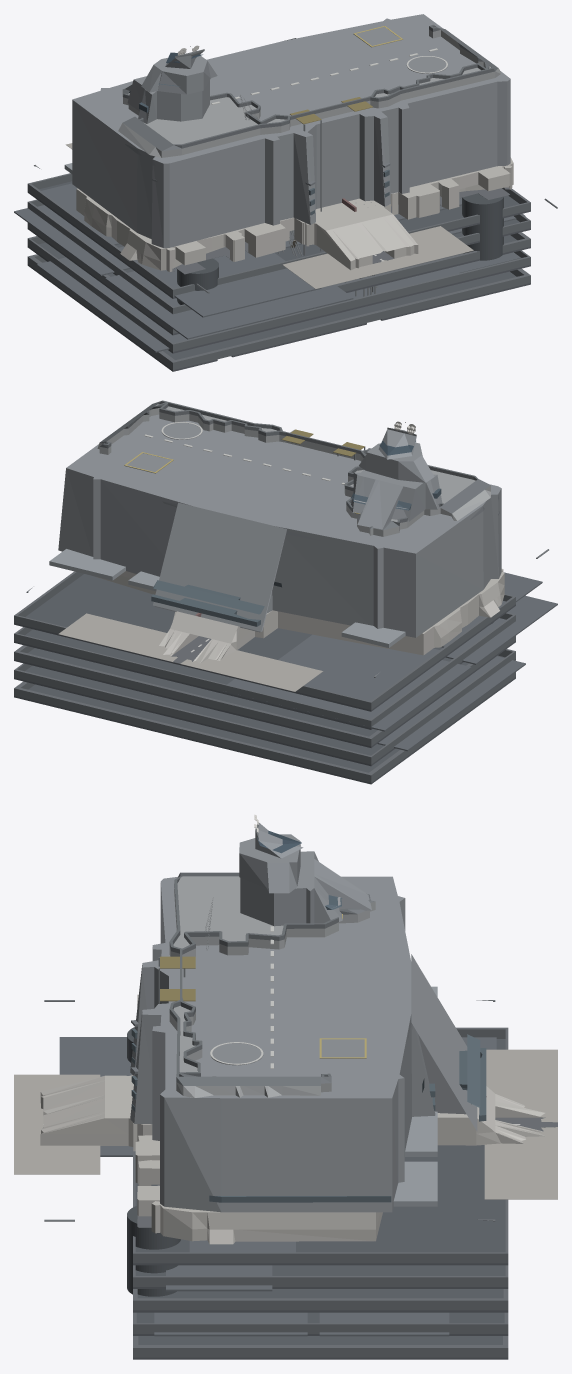
File: prim3_site0_master.glb
The picture shows the model from 3 angles, top to bottom: view 1: azimuth 30°, elevation 25°; view 2: azimuth 150°, elevation 25°; view 3: azimuth 270°, elevation 25°; orthographic projection. The views are drawn at different scales.
Parts seen in each view (by area): view 1: SHELL_MAIN_RECTANGLE, L1_GROUND_DEFENSE_LINTEL, L3_FLIGHT_DECK, B4_DEEP_TRANSIT_LOGISTICS_ENCLOSURE, B5_GLOBAL_COORDINATION_RESILIENCE_ENCLOSURE, B2_HIGH_BAY_0, B1_CENTRAL_OPEN_TECH_LIBRARY, L3_FLIGHT_DECK_PARAPET, B5_GLOBAL_COORDINATION_RESILIENCE_FLOOR, B4_INTERFACILITY_TRANSFER_HALL, L1_ROAD_NORTH_GATE, B1_OPEN_TECH_RESEARCH_ENCLOSURE (+17 smaller); view 2: SHELL_MAIN_RECTANGLE, B1_OPEN_TECH_RESEARCH_FLOOR, B1_RESEARCH_WING_0, L1_ROAD_SOUTH_GATE, B4_DEEP_TRANSIT_LOGISTICS_ENCLOSURE, B5_GLOBAL_COORDINATION_RESILIENCE_ENCLOSURE, B3_PRIME_COMMAND_SUSTAINMENT_ENCLOSURE, B2_INDUSTRIAL_PRODUCTION_ENCLOSURE, L3_FLIGHT_DECK, B5_GLOBAL_COORDINATION_RESILIENCE_FLOOR, B3_PRIME_COMMAND_SUSTAINMENT_FLOOR, B4_DEEP_TRANSIT_LOGISTICS_FLOOR (+20 smaller); view 3: SHELL_MAIN_RECTANGLE, L1_GROUND_DEFENSE_LINTEL, B1_OPEN_TECH_RESEARCH_FLOOR, L3_FLIGHT_DECK, L1_ROAD_SOUTH_GATE, B1_OPEN_TECH_RESEARCH_ENCLOSURE, L1_ROAD_NORTH_GATE, L4_ISLAND_PEDESTAL, B5_GLOBAL_COORDINATION_RESILIENCE_ENCLOSURE, B3_PRIME_COMMAND_SUSTAINMENT_ENCLOSURE, L3_FLIGHT_DECK_PARAPET, L1_GROUND_DEFENSE_FLOOR_10 (+23 smaller).
Boxes of the visible parts, bbox=[...] form: SHELL_MAIN_RECTANGLE: bbox=[72, 14, 510, 248]; L1_GROUND_DEFENSE_LINTEL: bbox=[76, 157, 513, 265]; L3_FLIGHT_DECK: bbox=[118, 29, 500, 157]; B4_DEEP_TRANSIT_LOGISTICS_ENCLOSURE: bbox=[27, 236, 530, 351]; B5_GLOBAL_COORDINATION_RESILIENCE_ENCLOSURE: bbox=[27, 254, 530, 369]; B2_HIGH_BAY_0: bbox=[105, 271, 353, 339]; B1_CENTRAL_OPEN_TECH_LIBRARY: bbox=[119, 246, 321, 317]; L3_FLIGHT_DECK_PARAPET: bbox=[122, 24, 497, 151]; B5_GLOBAL_COORDINATION_RESILIENCE_FLOOR: bbox=[27, 261, 530, 371]; B4_INTERFACILITY_TRANSFER_HALL: bbox=[37, 257, 459, 352]; L1_ROAD_NORTH_GATE: bbox=[282, 226, 473, 288]; B1_OPEN_TECH_RESEARCH_ENCLOSURE: bbox=[27, 173, 530, 297]; SHELL_MAIN_RECTANGLE: bbox=[58, 414, 501, 637]; B1_OPEN_TECH_RESEARCH_FLOOR: bbox=[14, 574, 515, 711]; B1_RESEARCH_WING_0: bbox=[278, 634, 439, 701]; L1_ROAD_SOUTH_GATE: bbox=[58, 613, 323, 691]; B4_DEEP_TRANSIT_LOGISTICS_ENCLOSURE: bbox=[14, 649, 515, 764]; B5_GLOBAL_COORDINATION_RESILIENCE_ENCLOSURE: bbox=[14, 672, 515, 782]; B3_PRIME_COMMAND_SUSTAINMENT_ENCLOSURE: bbox=[14, 636, 515, 746]; B2_INDUSTRIAL_PRODUCTION_ENCLOSURE: bbox=[14, 612, 515, 726]; L3_FLIGHT_DECK: bbox=[97, 404, 490, 536]; B5_GLOBAL_COORDINATION_RESILIENCE_FLOOR: bbox=[14, 677, 515, 784]; B3_PRIME_COMMAND_SUSTAINMENT_FLOOR: bbox=[14, 641, 515, 747]; B4_DEEP_TRANSIT_LOGISTICS_FLOOR: bbox=[14, 655, 515, 766]; SHELL_MAIN_RECTANGLE: bbox=[130, 876, 477, 1212]; L1_GROUND_DEFENSE_LINTEL: bbox=[41, 994, 495, 1229]; B1_OPEN_TECH_RESEARCH_FLOOR: bbox=[133, 1039, 508, 1265]; L3_FLIGHT_DECK: bbox=[169, 876, 375, 1097]; L1_ROAD_SOUTH_GATE: bbox=[484, 1049, 557, 1199]; B1_OPEN_TECH_RESEARCH_ENCLOSURE: bbox=[133, 1027, 508, 1263]; L1_ROAD_NORTH_GATE: bbox=[14, 1074, 100, 1174]; L4_ISLAND_PEDESTAL: bbox=[240, 851, 371, 926]; B5_GLOBAL_COORDINATION_RESILIENCE_ENCLOSURE: bbox=[133, 1336, 508, 1357]; B3_PRIME_COMMAND_SUSTAINMENT_ENCLOSURE: bbox=[133, 1289, 508, 1310]; L3_FLIGHT_DECK_PARAPET: bbox=[169, 872, 374, 1085]; L1_GROUND_DEFENSE_FLOOR_10: bbox=[151, 1120, 544, 1244].
Size of the model in its own units: 0.9581 by 0.6656 by 0.9212.
